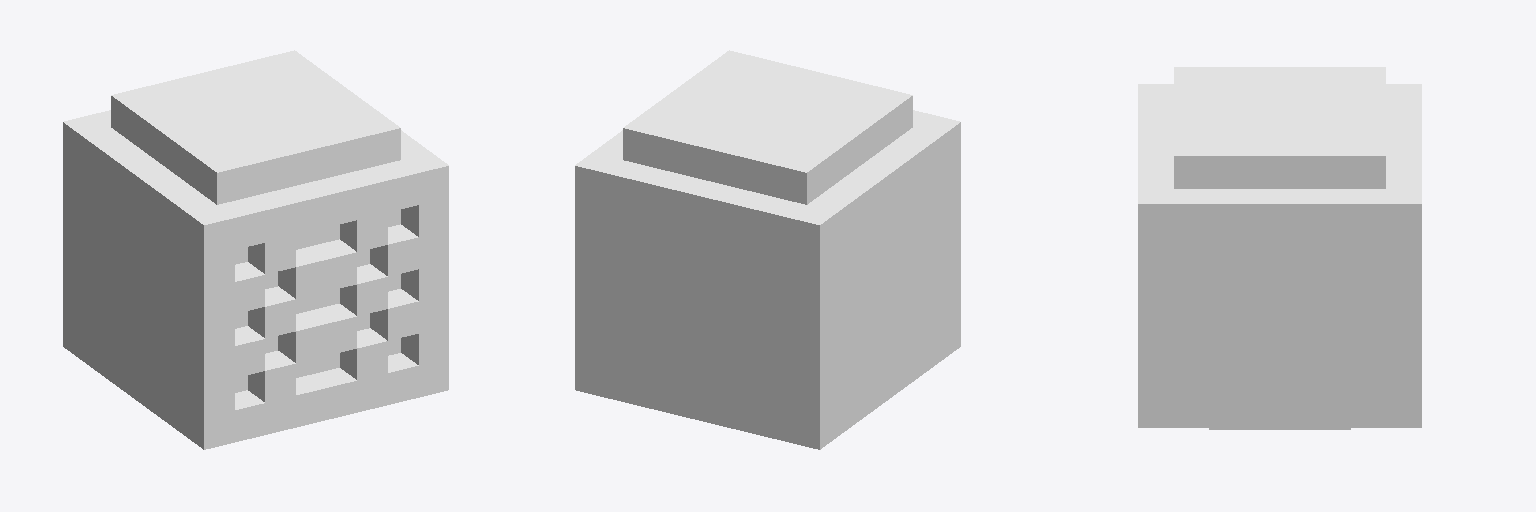
File: Turret2Top.obj
The picture shows the model from 3 angles: view 1: azimuth 30°, elevation 25°; view 2: azimuth 150°, elevation 25°; view 3: azimuth 270°, elevation 25°; orthographic projection.
Visible parts, largest first — view 1: object 1; view 2: object 1; view 3: object 1.
Boxes of the visible parts, box(x1,y1,x2,y2) form: object 1: box(63, 50, 448, 449); object 1: box(575, 50, 960, 449); object 1: box(1138, 67, 1421, 429).
Size of the model in its own units: 0.8 by 0.9 by 0.8.